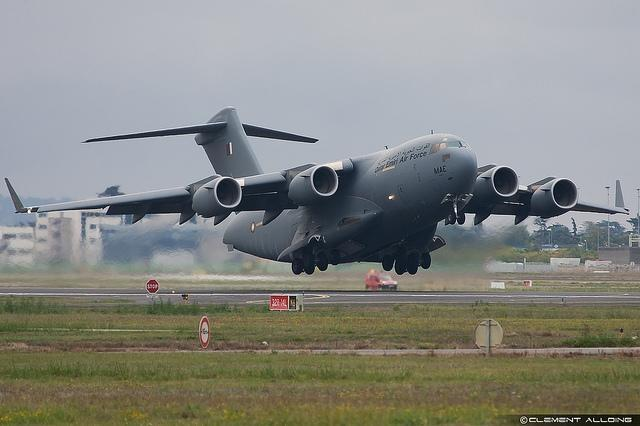car: (364, 270, 398, 292)
